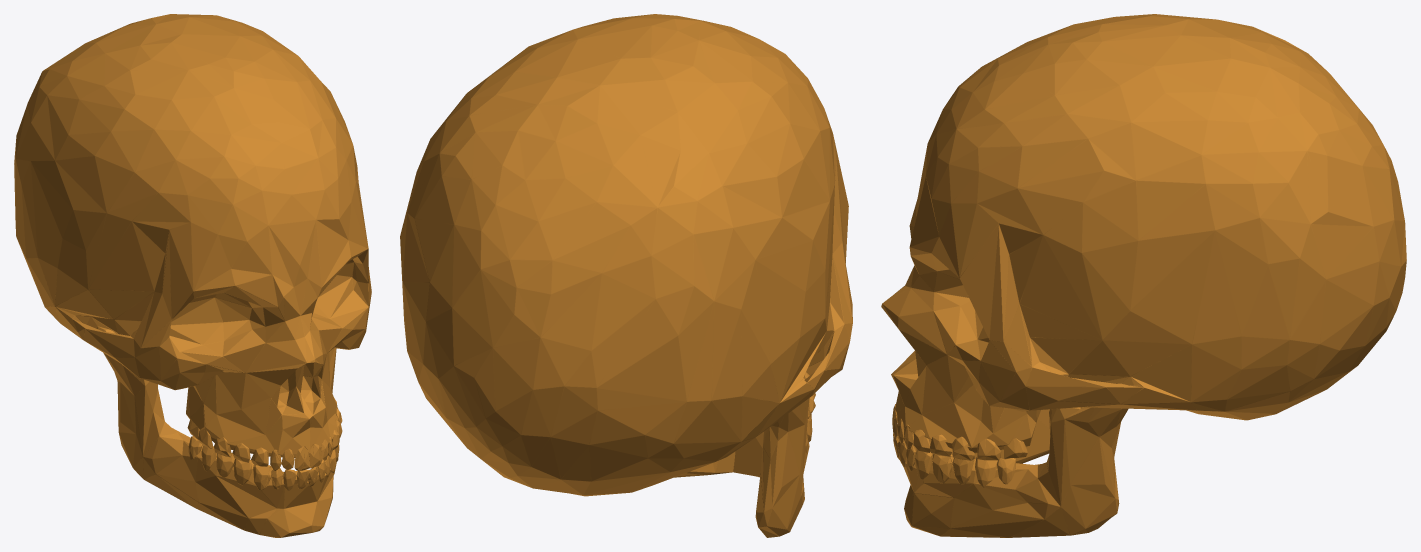
The model's file is skull.glb.
3 views of the same model, side by side, from view 1: azimuth 30°, elevation 25°; view 2: azimuth 150°, elevation 25°; view 3: azimuth 270°, elevation 25° (orthographic). The views are drawn at different scales.
Visible parts, largest first — view 1: Skull, jaw; view 2: Skull, jaw; view 3: Skull, jaw.
Boxes of the visible parts, bbox=[...] form: Skull: bbox=[14, 14, 371, 471]; jaw: bbox=[96, 326, 339, 537]; Skull: bbox=[400, 14, 852, 496]; jaw: bbox=[674, 378, 812, 537]; Skull: bbox=[881, 14, 1406, 460]; jaw: bbox=[893, 383, 1128, 537].
Size of the model in its own units: 2.12 by 3.12 by 3.08.
